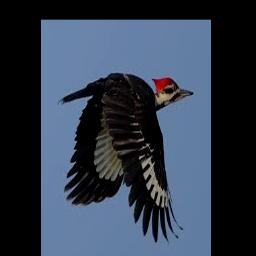Woodpecker: (56, 72, 193, 242)
